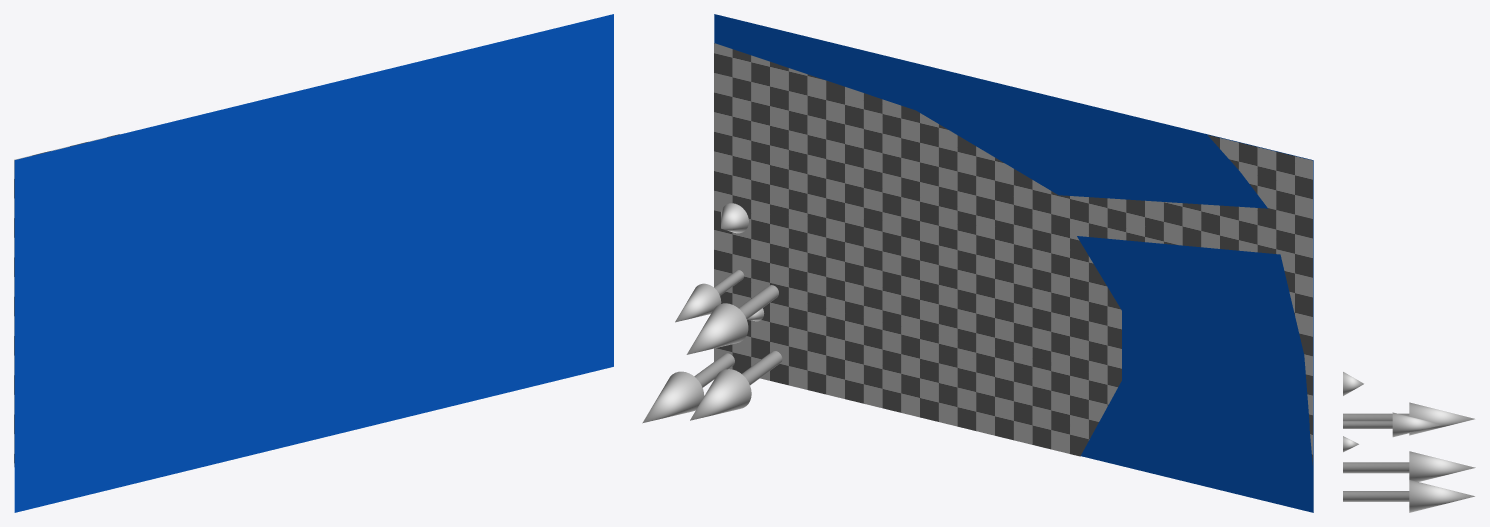
File: forest17.dae
3 renders of one model, left to right at view 1: azimuth 30°, elevation 25°; view 2: azimuth 150°, elevation 25°; view 3: azimuth 270°, elevation 25°, orthographic. The views are drawn at different scales.
Visible parts, largest first — view 1: Plane.041; view 2: Plane.034, Plane.041, Cone.2874, Cone.2878, Cone.2877, Cone.2879; view 3: Cone.2874, Cone.2877, Cone.2878, Cone.2879, Cone.2875.
Boxes of the visible parts, x1,y1,x2,y2 form: Plane.041: [14, 14, 613, 512]; Plane.034: [714, 43, 1312, 464]; Plane.041: [714, 14, 1313, 512]; Cone.2874: [690, 351, 782, 420]; Cone.2878: [686, 285, 778, 354]; Cone.2877: [642, 353, 734, 423]; Cone.2879: [675, 270, 744, 322]; Cone.2874: [1343, 451, 1475, 481]; Cone.2877: [1343, 480, 1474, 512]; Cone.2878: [1343, 402, 1474, 435]; Cone.2879: [1343, 412, 1441, 437]; Cone.2875: [1343, 372, 1363, 395].
Bounding box in the file's own units: 64.4 × 16.1 × 36.9.
Materials: 2 (1 with a texture image).
